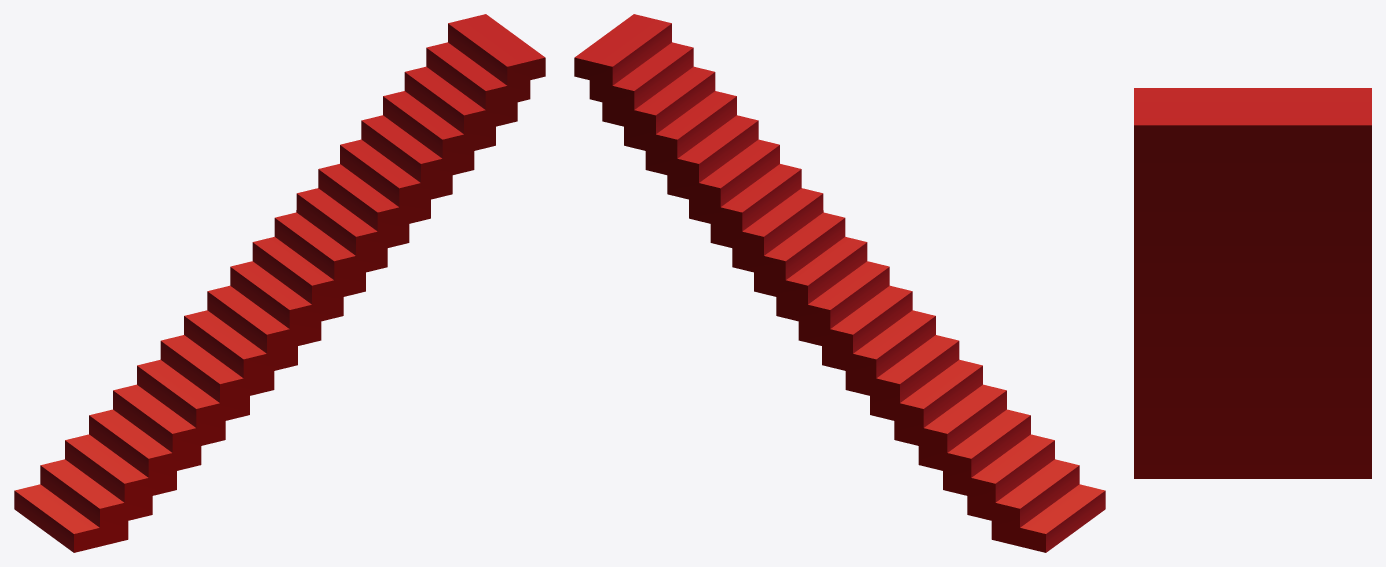
Rendered from SNP_Stairs_001.FBX.
3 views of the same model, side by side, from view 1: azimuth 30°, elevation 25°; view 2: azimuth 150°, elevation 25°; view 3: azimuth 270°, elevation 25° (orthographic). The views are drawn at different scales.
Visible parts, largest first — view 1: SNP_Stairs_001; view 2: SNP_Stairs_001; view 3: SNP_Stairs_001.
Boxes of the visible parts, x1,y1,x2,y2 form: SNP_Stairs_001: [14, 14, 545, 552]; SNP_Stairs_001: [574, 14, 1105, 552]; SNP_Stairs_001: [1134, 88, 1371, 478].
Bounding box in the file's own units: 442 × 341 × 96.6.
Materials: 1 (1 with a texture image).
